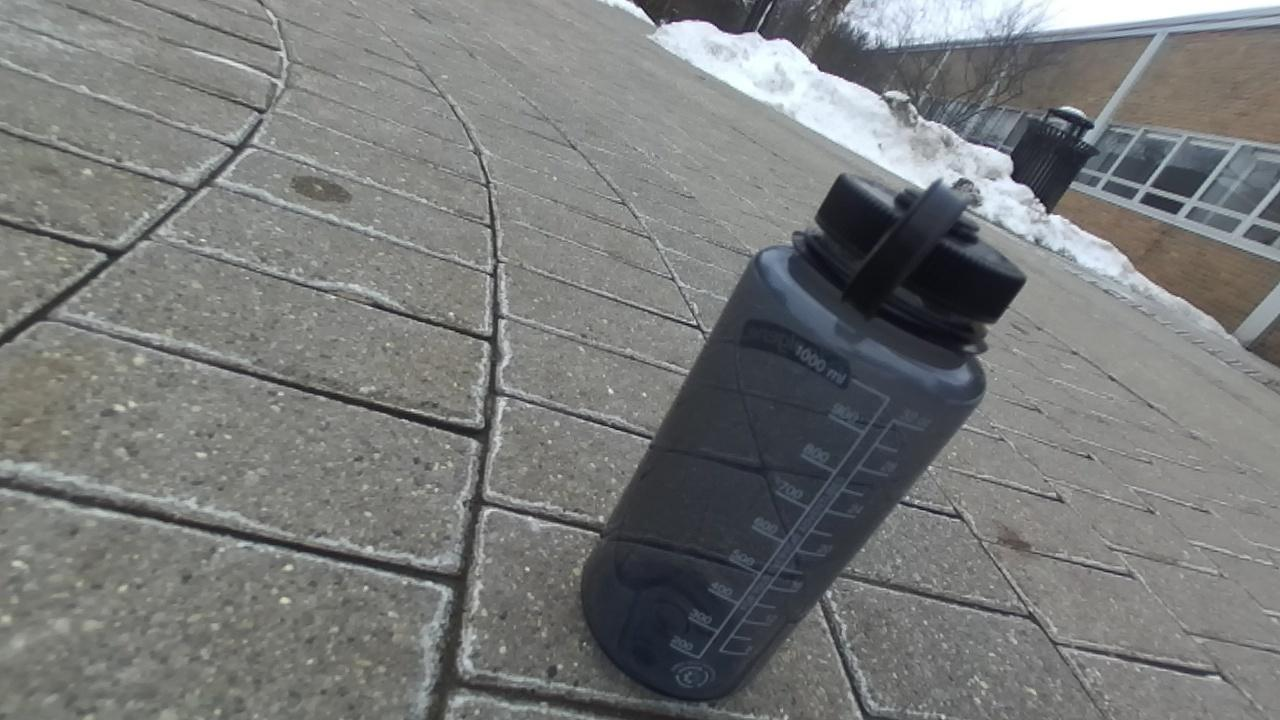bottle: (581, 174, 1025, 700)
